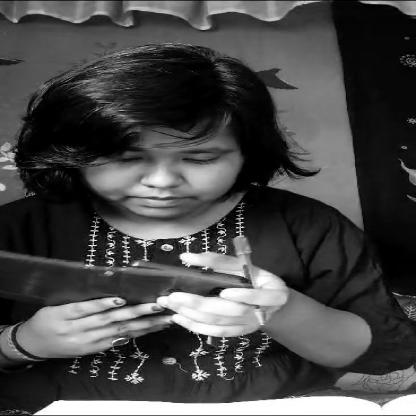Normal: (61, 110, 272, 228)
